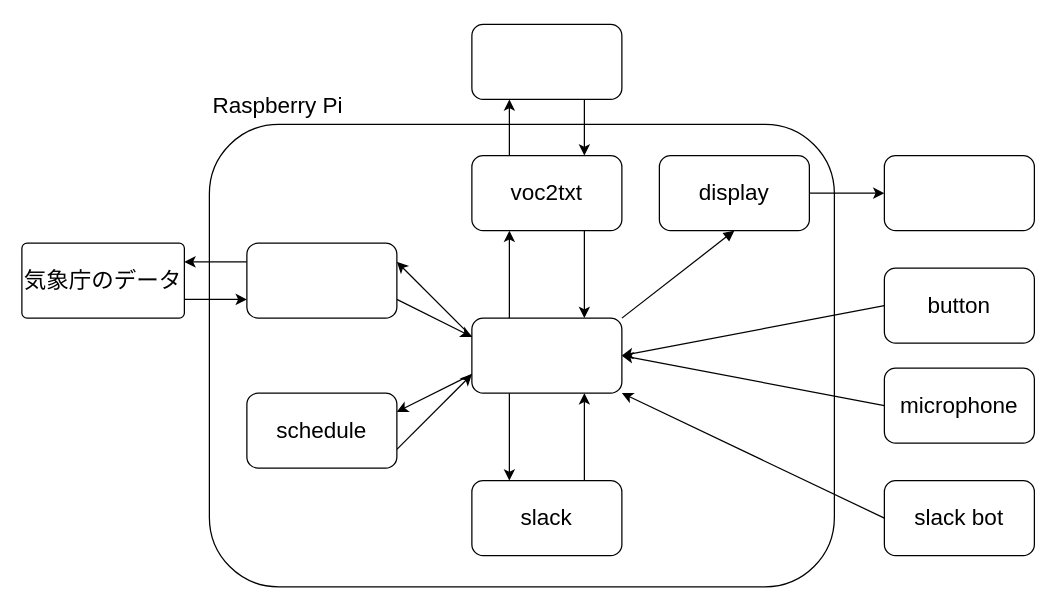
This 1056x609 diagram has some shape labels left out. Here are the shapes that lost their labels. From the top down, the centre of each, then its label:
(x=546, y=61): Google Speech To Text
(x=958, y=192): 電光掲示板
(x=321, y=280): weather
(x=546, y=355): server
